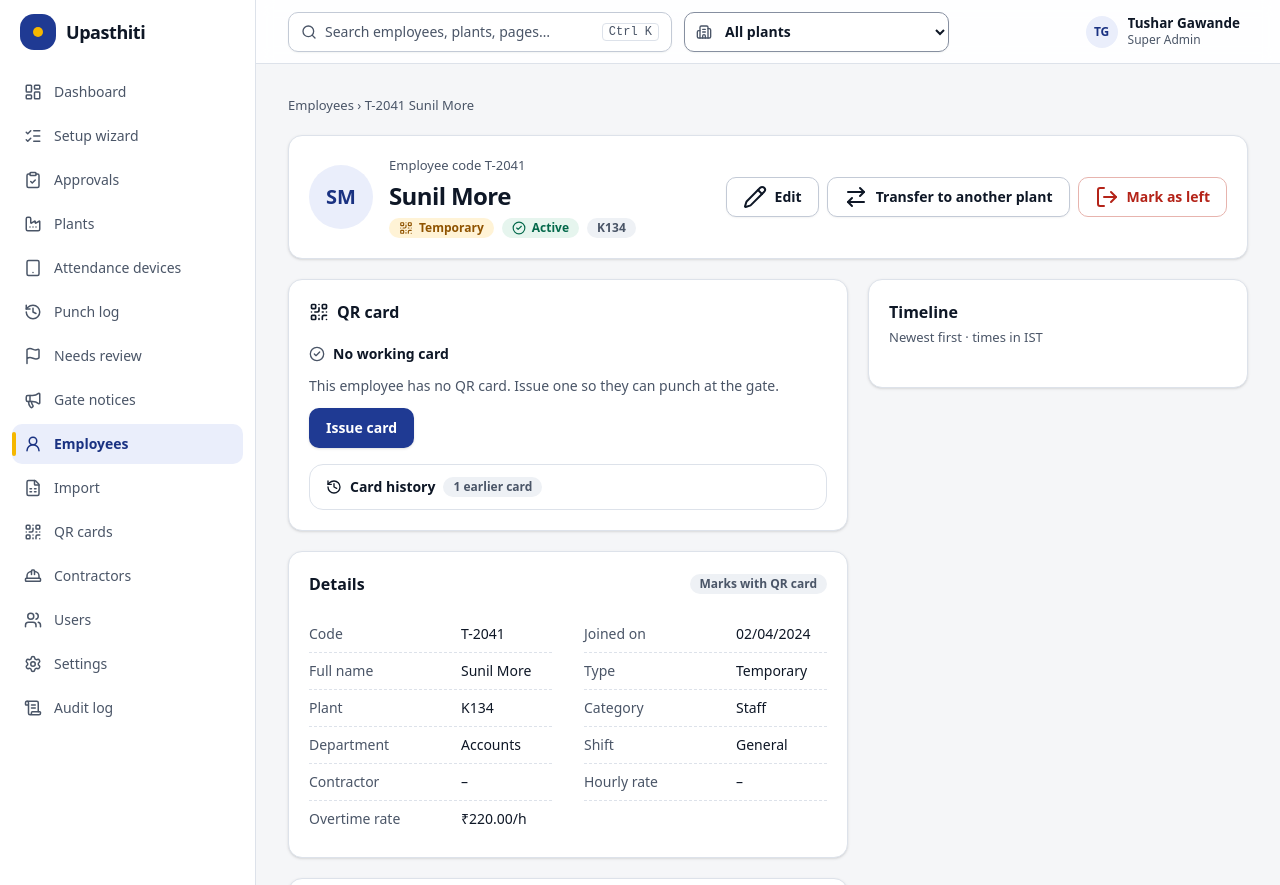
no working card › lists earlier cards in the history, with who revoked them and why
The width and height of the screenshot is (1280, 885).
Click the heading "Card history 1 earlier card" at (434, 487), box [326,477,542,497]
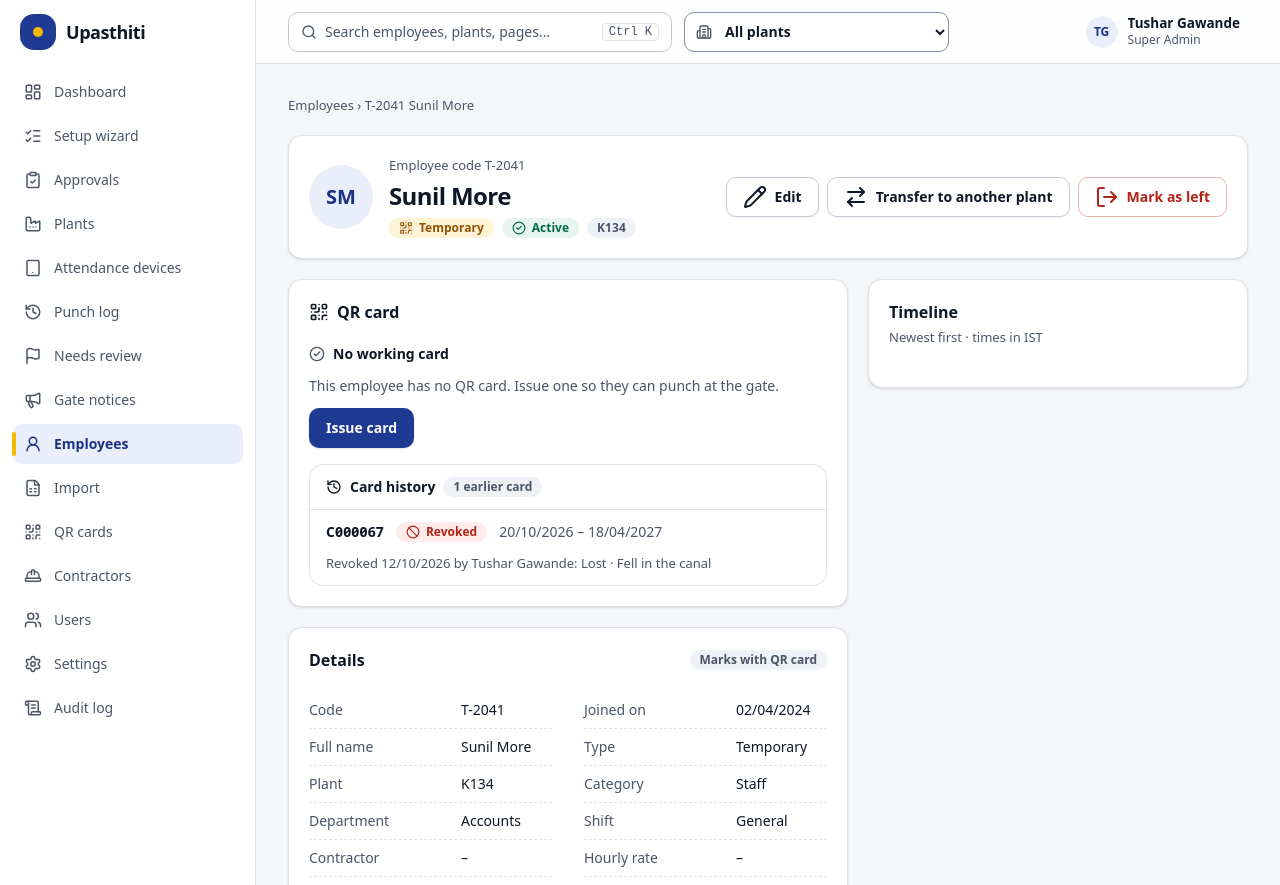
Expected: the text "C000067" is shown, [326,522,384,542]
Expected: the text "Revoked 12/10/2026 by Tushar Gawande: Lost" is shown, [326,554,607,572]
Expected: the text "Fell in the canal" is shown, [607,554,711,572]
